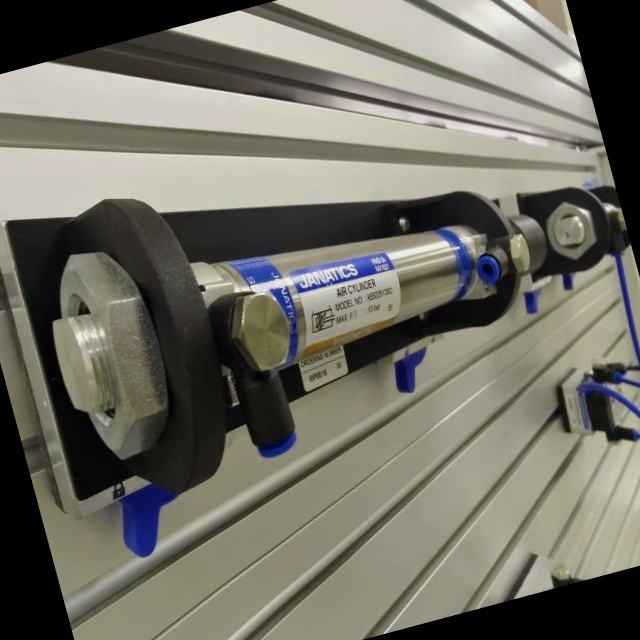double acting pneumatic cylinder: (0, 51, 606, 587)
